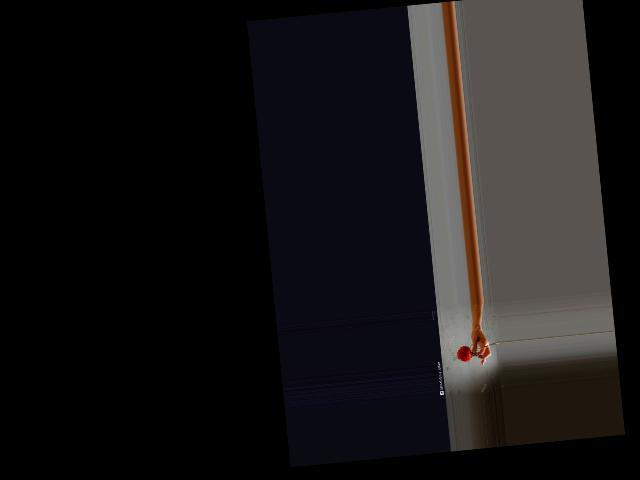tomato: (455, 344, 471, 361)
